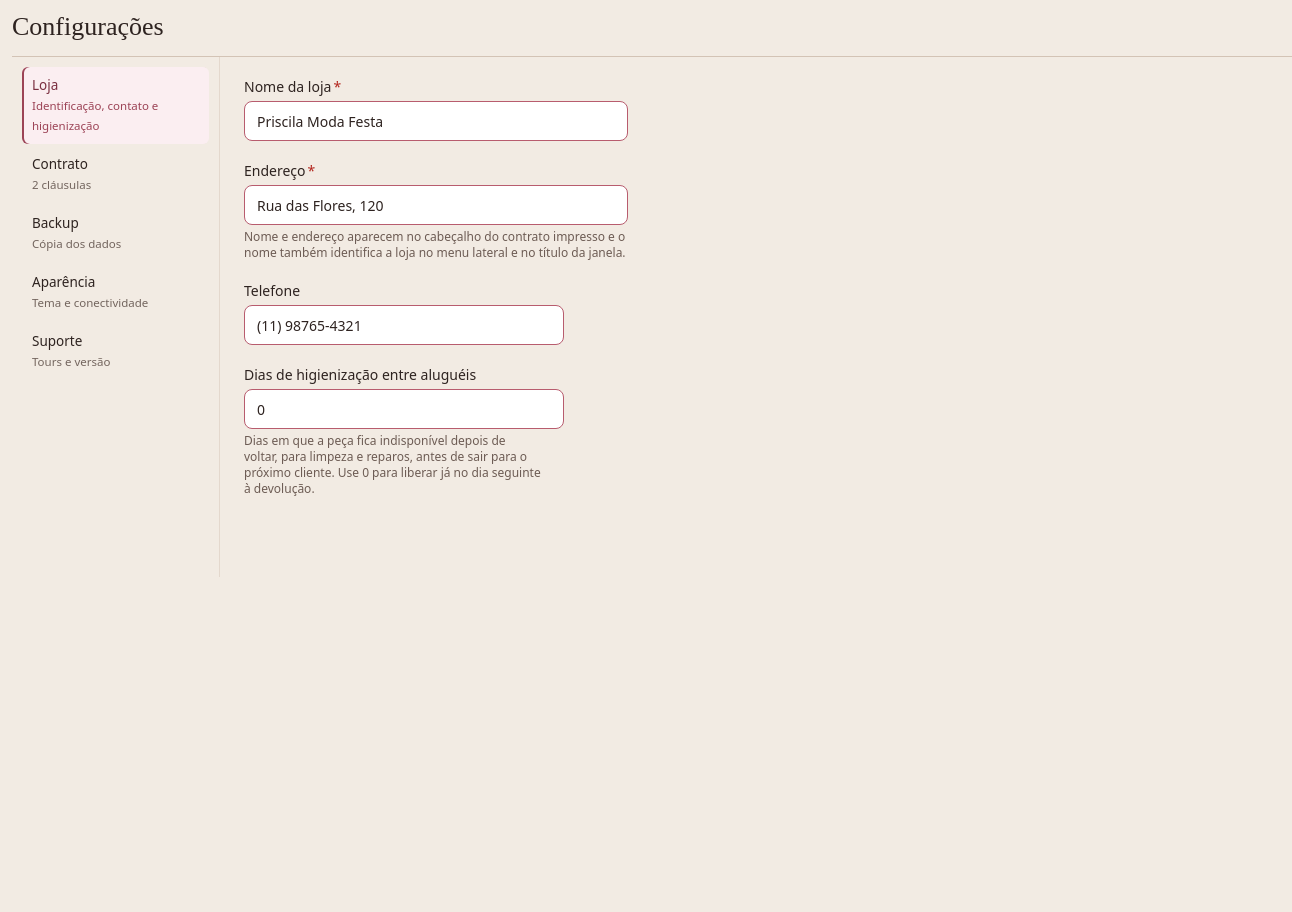
Test: tours guiados › lista um botão Rever para cada seção coberta
The width and height of the screenshot is (1292, 912).
Step 1. Click the button "Suporte Tours e versão" → (116, 352), box x1=22 y1=323 x2=209 y2=380
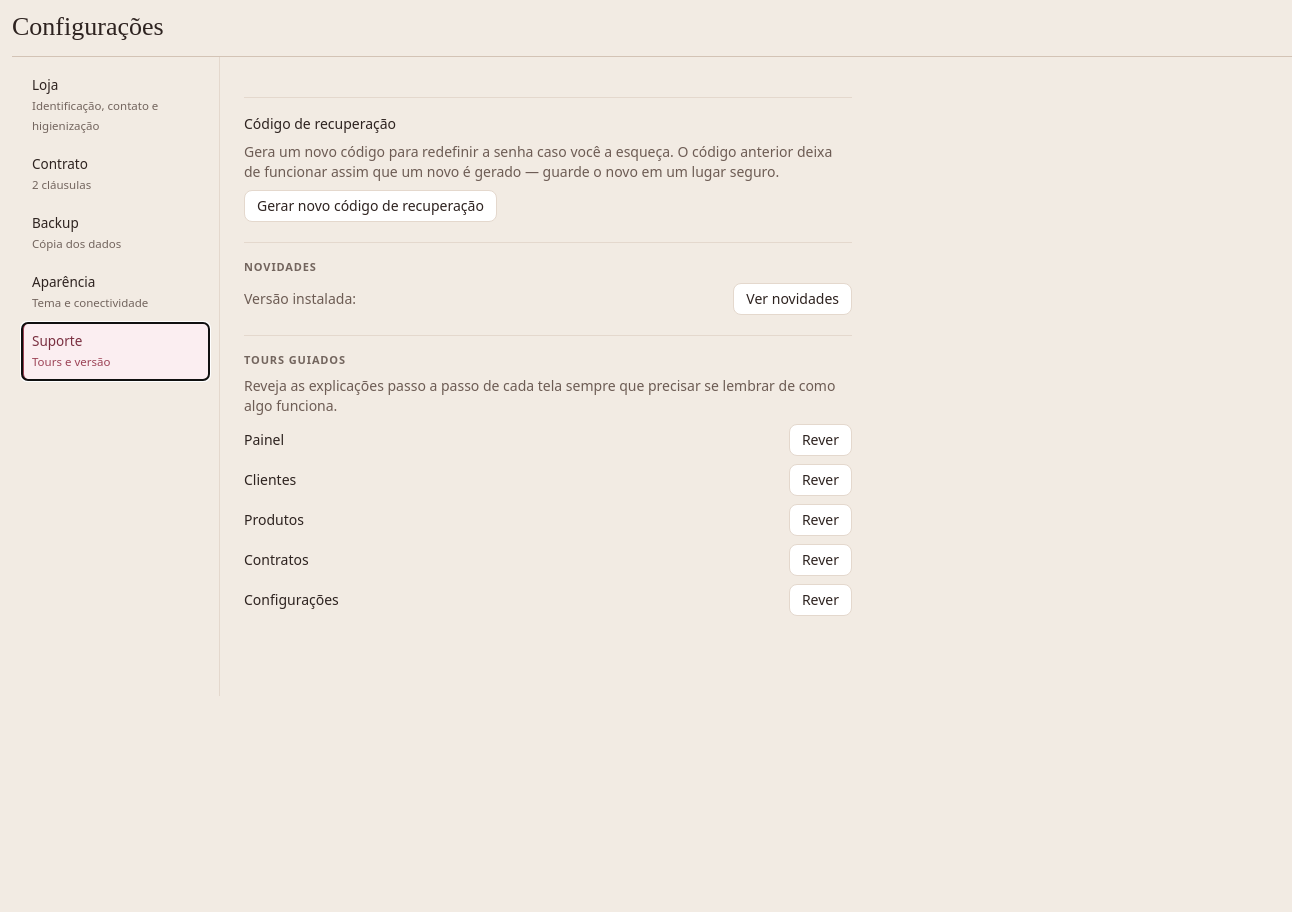
Expected: the button with aria-label "Rever tour de Painel" is shown, x1=789 y1=424 x2=852 y2=456
Expected: the button with aria-label "Rever tour de Clientes" is shown, x1=789 y1=464 x2=852 y2=496
Expected: the button with aria-label "Rever tour de Produtos" is shown, x1=789 y1=504 x2=852 y2=536
